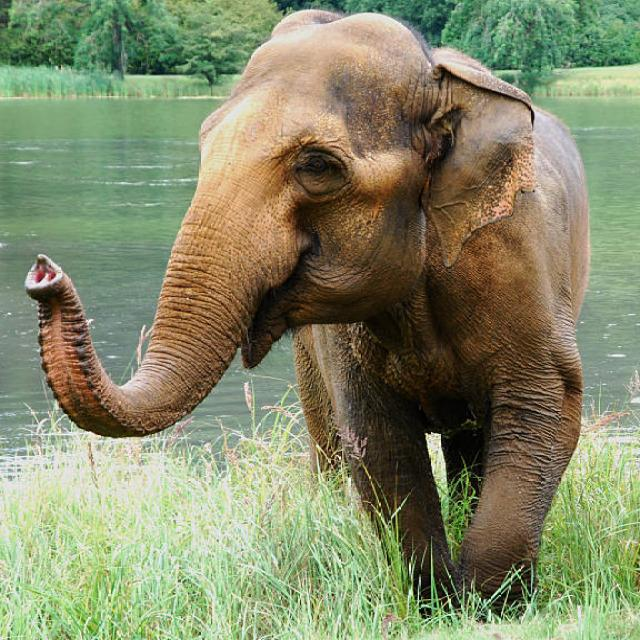Elephant: (25, 1, 605, 618)
